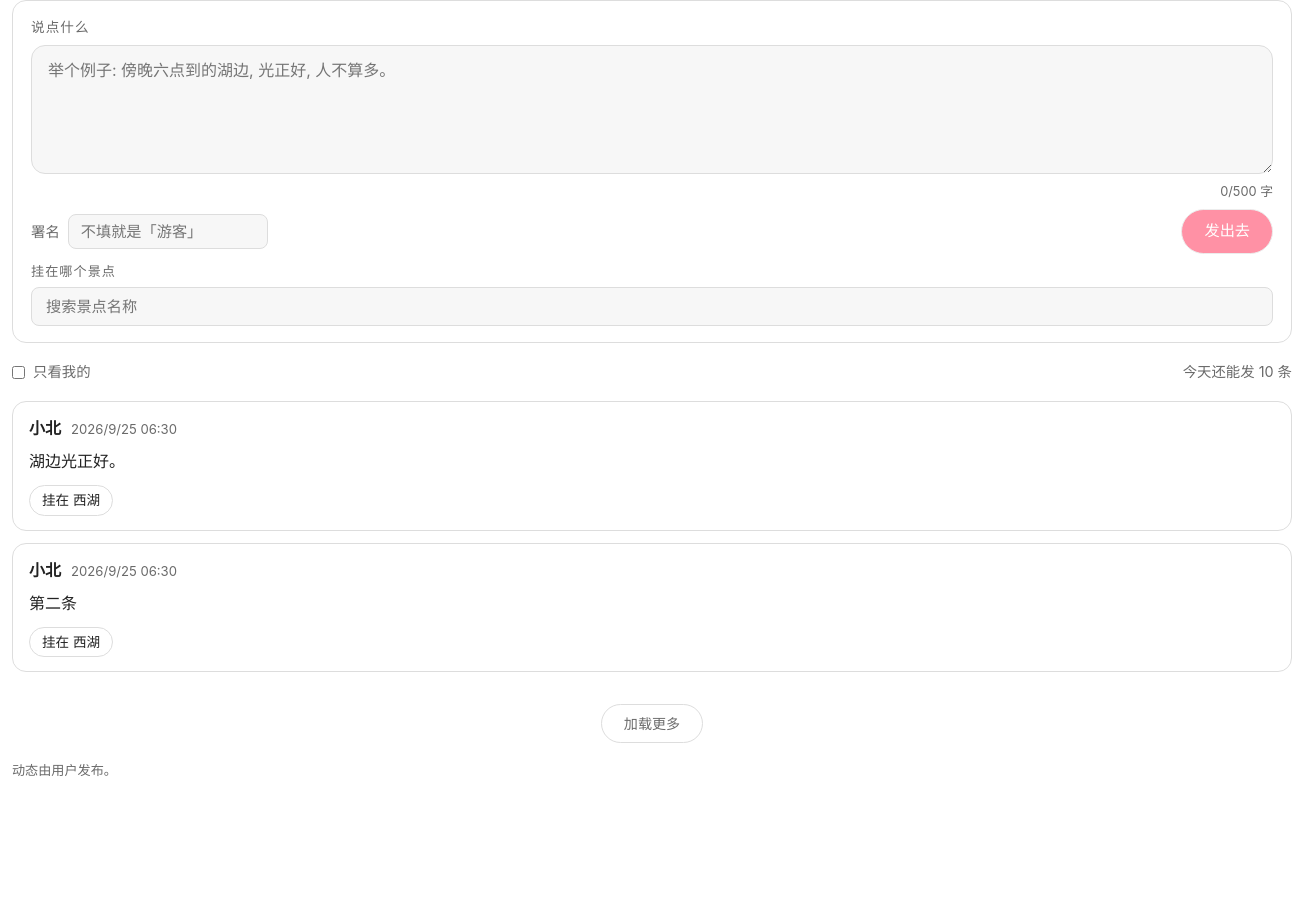
PostsPage › 后续页与第一页撞上时按 id 去重, 不把同一条摆两遍
The width and height of the screenshot is (1304, 900).
Check: the text "第二条" is shown, box [29,593,77,613]
Click the button "加载更多" at (652,724), box [601,704,703,743]
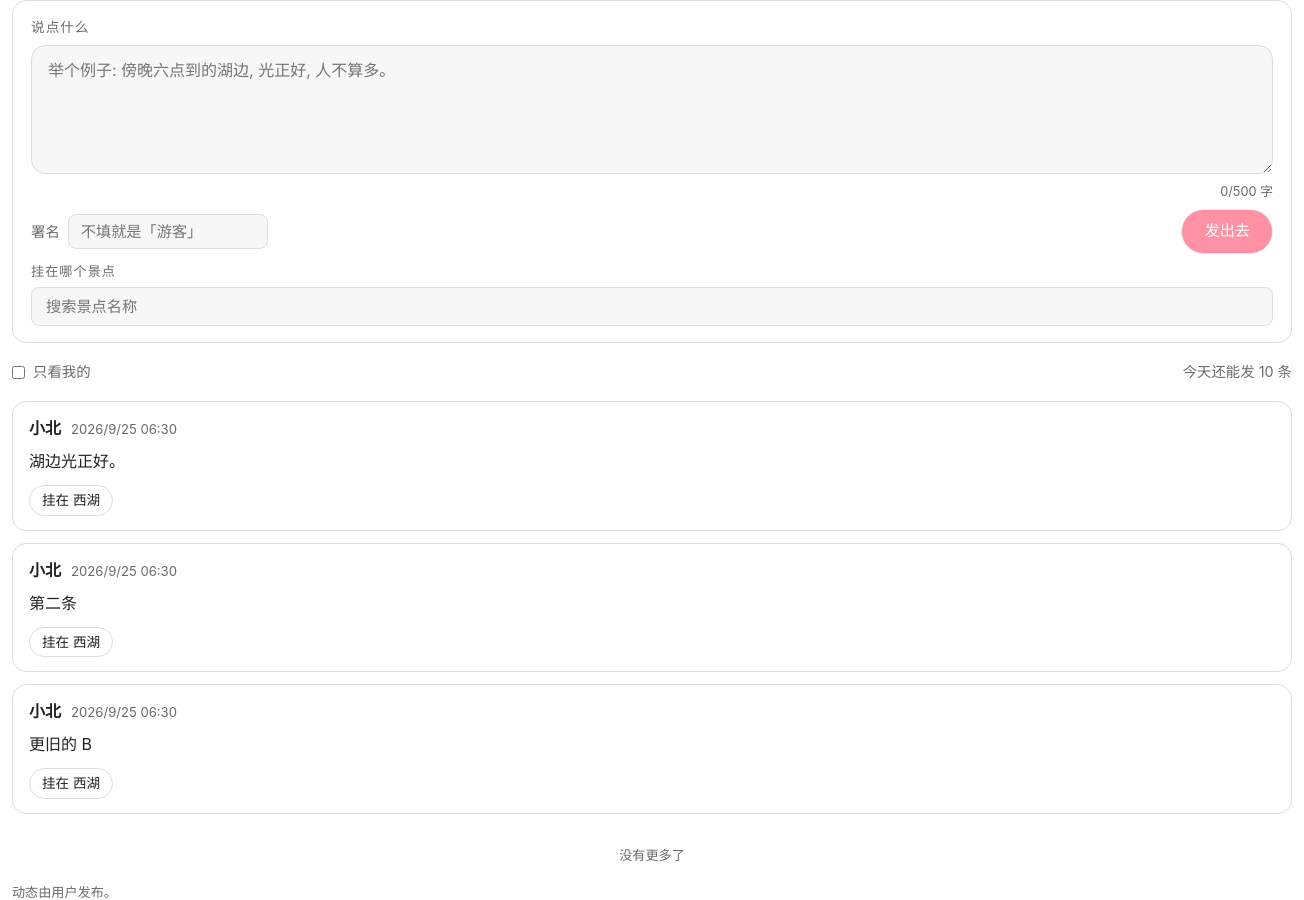
Check: the text "第二条" is shown once, box [29,593,77,613]
Check: the text "更旧的 B" is shown, box [29,734,92,754]
